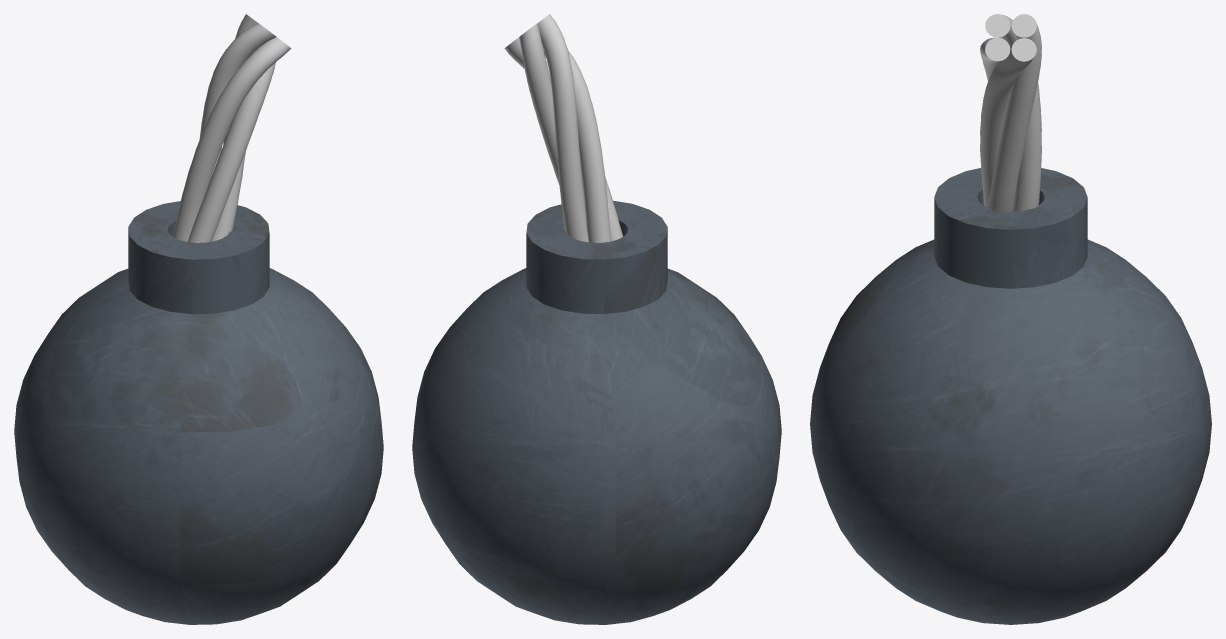
Rendered from bomb.fbx.
The picture shows the model from 3 angles, left to right: view 1: azimuth 30°, elevation 25°; view 2: azimuth 150°, elevation 25°; view 3: azimuth 270°, elevation 25°; orthographic projection. The views are drawn at different scales.
Visible parts, largest first — view 1: pSphere1, pPipe1, pCylinder14; view 2: pSphere1, pPipe1, pCylinder14; view 3: pSphere1, pPipe1, pCylinder14.
Boxes of the visible parts, x1,y1,x2,y2 form: pSphere1: (14, 268, 383, 624); pPipe1: (128, 201, 269, 314); pCylinder14: (173, 14, 291, 242); pSphere1: (412, 268, 781, 624); pPipe1: (526, 200, 667, 314); pCylinder14: (504, 14, 623, 242); pSphere1: (810, 239, 1211, 624); pPipe1: (934, 168, 1087, 288); pCylinder14: (980, 14, 1041, 211).
Bounding box in the file's own units: 1.2 × 2.05 × 1.2.
